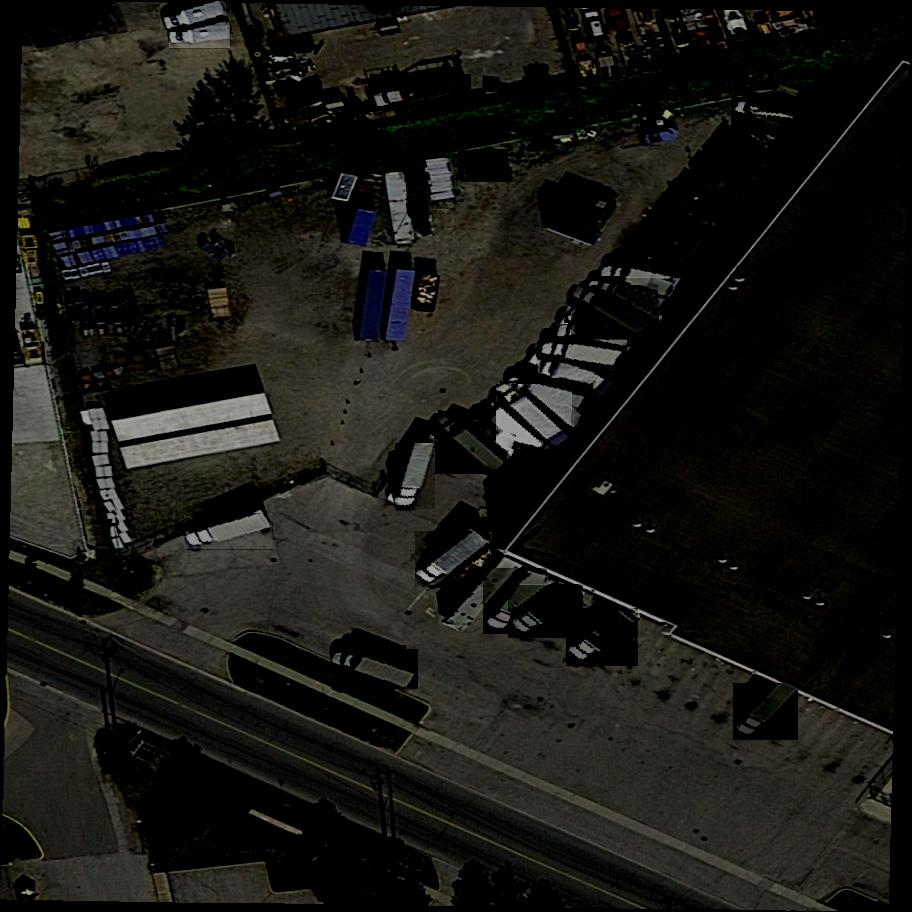large-vehicle: (495, 380, 572, 453), (570, 283, 659, 345), (484, 565, 549, 641), (434, 411, 508, 477), (567, 603, 639, 670), (416, 529, 491, 592), (508, 582, 583, 643), (733, 679, 799, 745), (528, 349, 613, 399), (330, 647, 418, 692), (369, 73, 471, 111), (467, 413, 560, 454), (184, 512, 272, 552), (589, 277, 674, 316), (504, 380, 596, 415), (602, 265, 695, 299), (396, 439, 437, 514), (732, 97, 805, 137), (536, 340, 627, 370), (161, 1, 228, 33), (557, 324, 644, 344), (170, 25, 232, 50)
small-vehicle: (582, 6, 612, 46)
